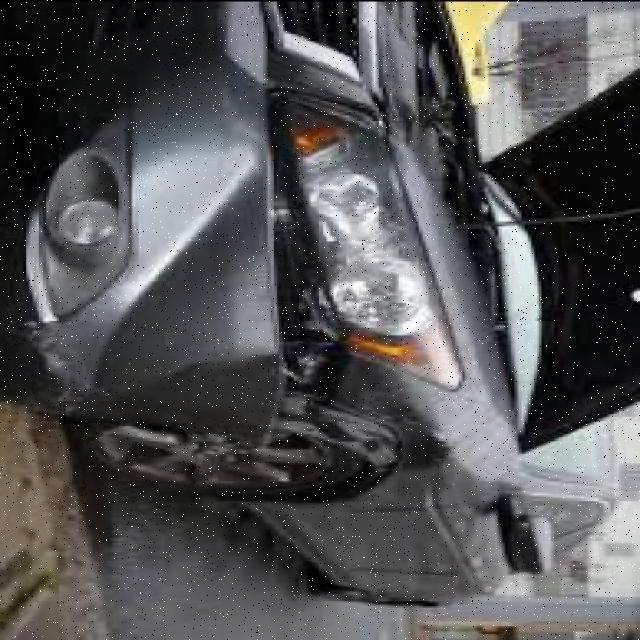damage: (4, 88, 458, 477)
